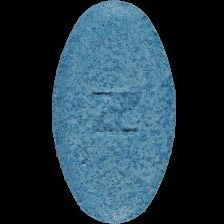54868-4842: (0, 0, 224, 224)
